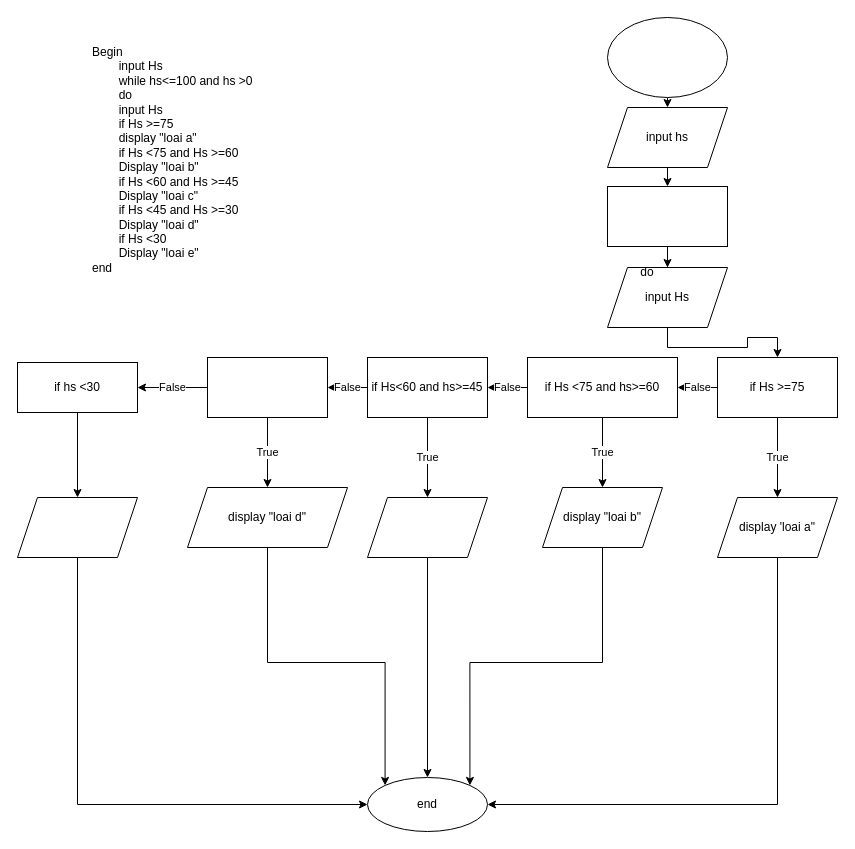
This 855x849 diagram has some shape labels left out. Here are the shapes that lost their labels. From the top down, the centre of each, then its label:
pixel 667 57: begin
pixel 667 216: while hs <=100 and hs>0
pixel 267 387: if hs<45 and hs>=30
pixel 77 527: display "loai e"
pixel 427 527: display "loai c"
